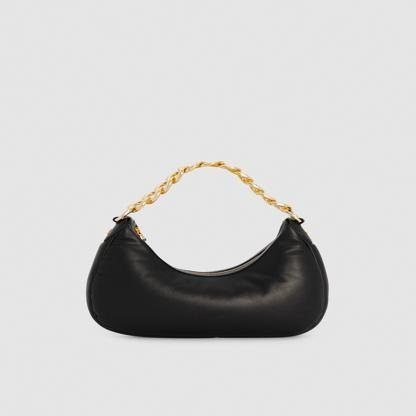not trash: (84, 159, 330, 335)
